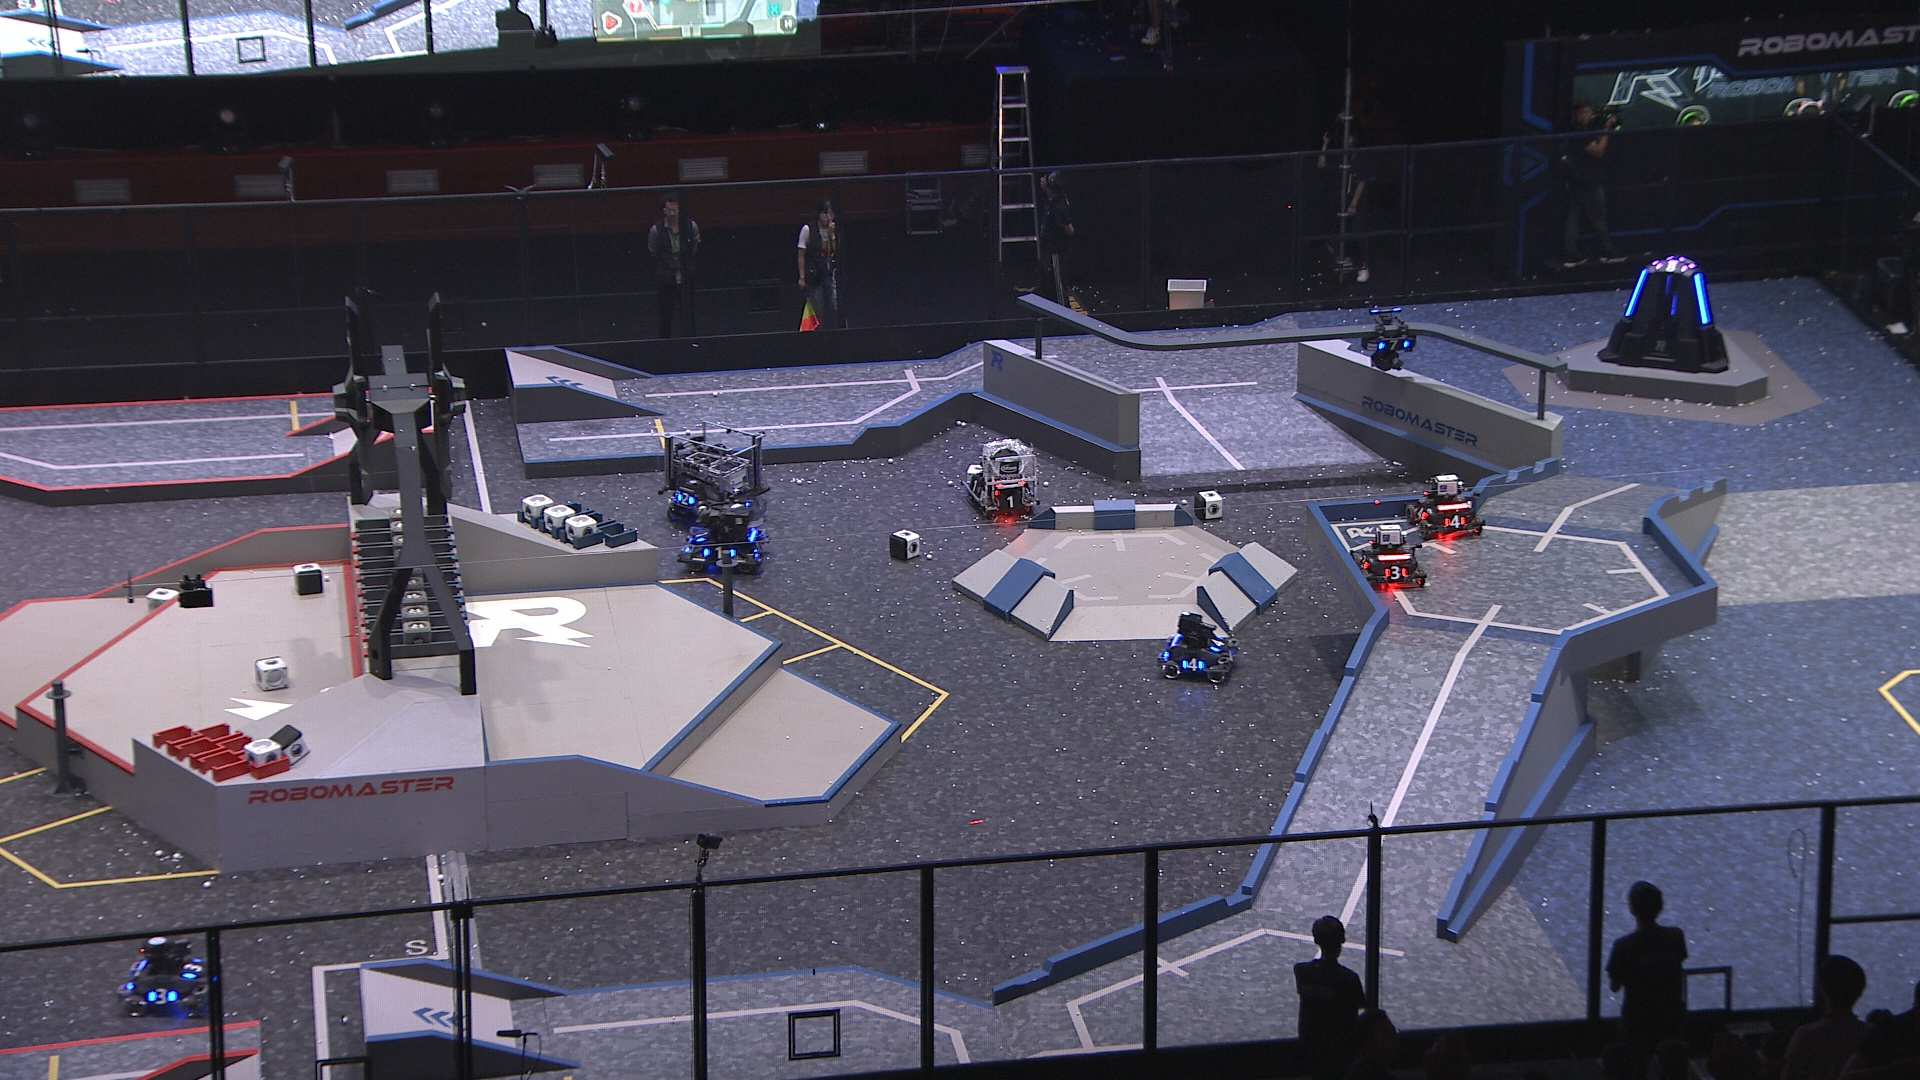armor: (1625, 266, 1648, 318), (1692, 272, 1713, 327), (145, 986, 179, 1006), (699, 545, 737, 560), (181, 955, 206, 978), (1377, 338, 1410, 353), (1381, 564, 1410, 582), (1443, 513, 1468, 529), (675, 491, 698, 508), (1207, 637, 1228, 654), (1182, 657, 1205, 671), (1357, 553, 1373, 572), (1662, 273, 1675, 295), (1000, 495, 1021, 508), (968, 476, 982, 495), (694, 527, 708, 545), (1414, 505, 1429, 520)
base: (1596, 253, 1731, 376)
car: (659, 419, 766, 524), (115, 932, 214, 1015), (673, 498, 770, 575), (960, 439, 1039, 520), (1158, 613, 1240, 687), (1404, 473, 1486, 541), (1348, 524, 1428, 589)
ignore: (1655, 257, 1689, 273)
watcher: (1358, 306, 1419, 372)
